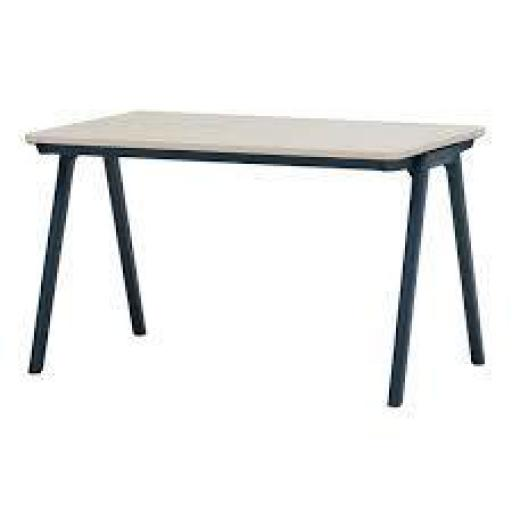table: (17, 71, 495, 421)
